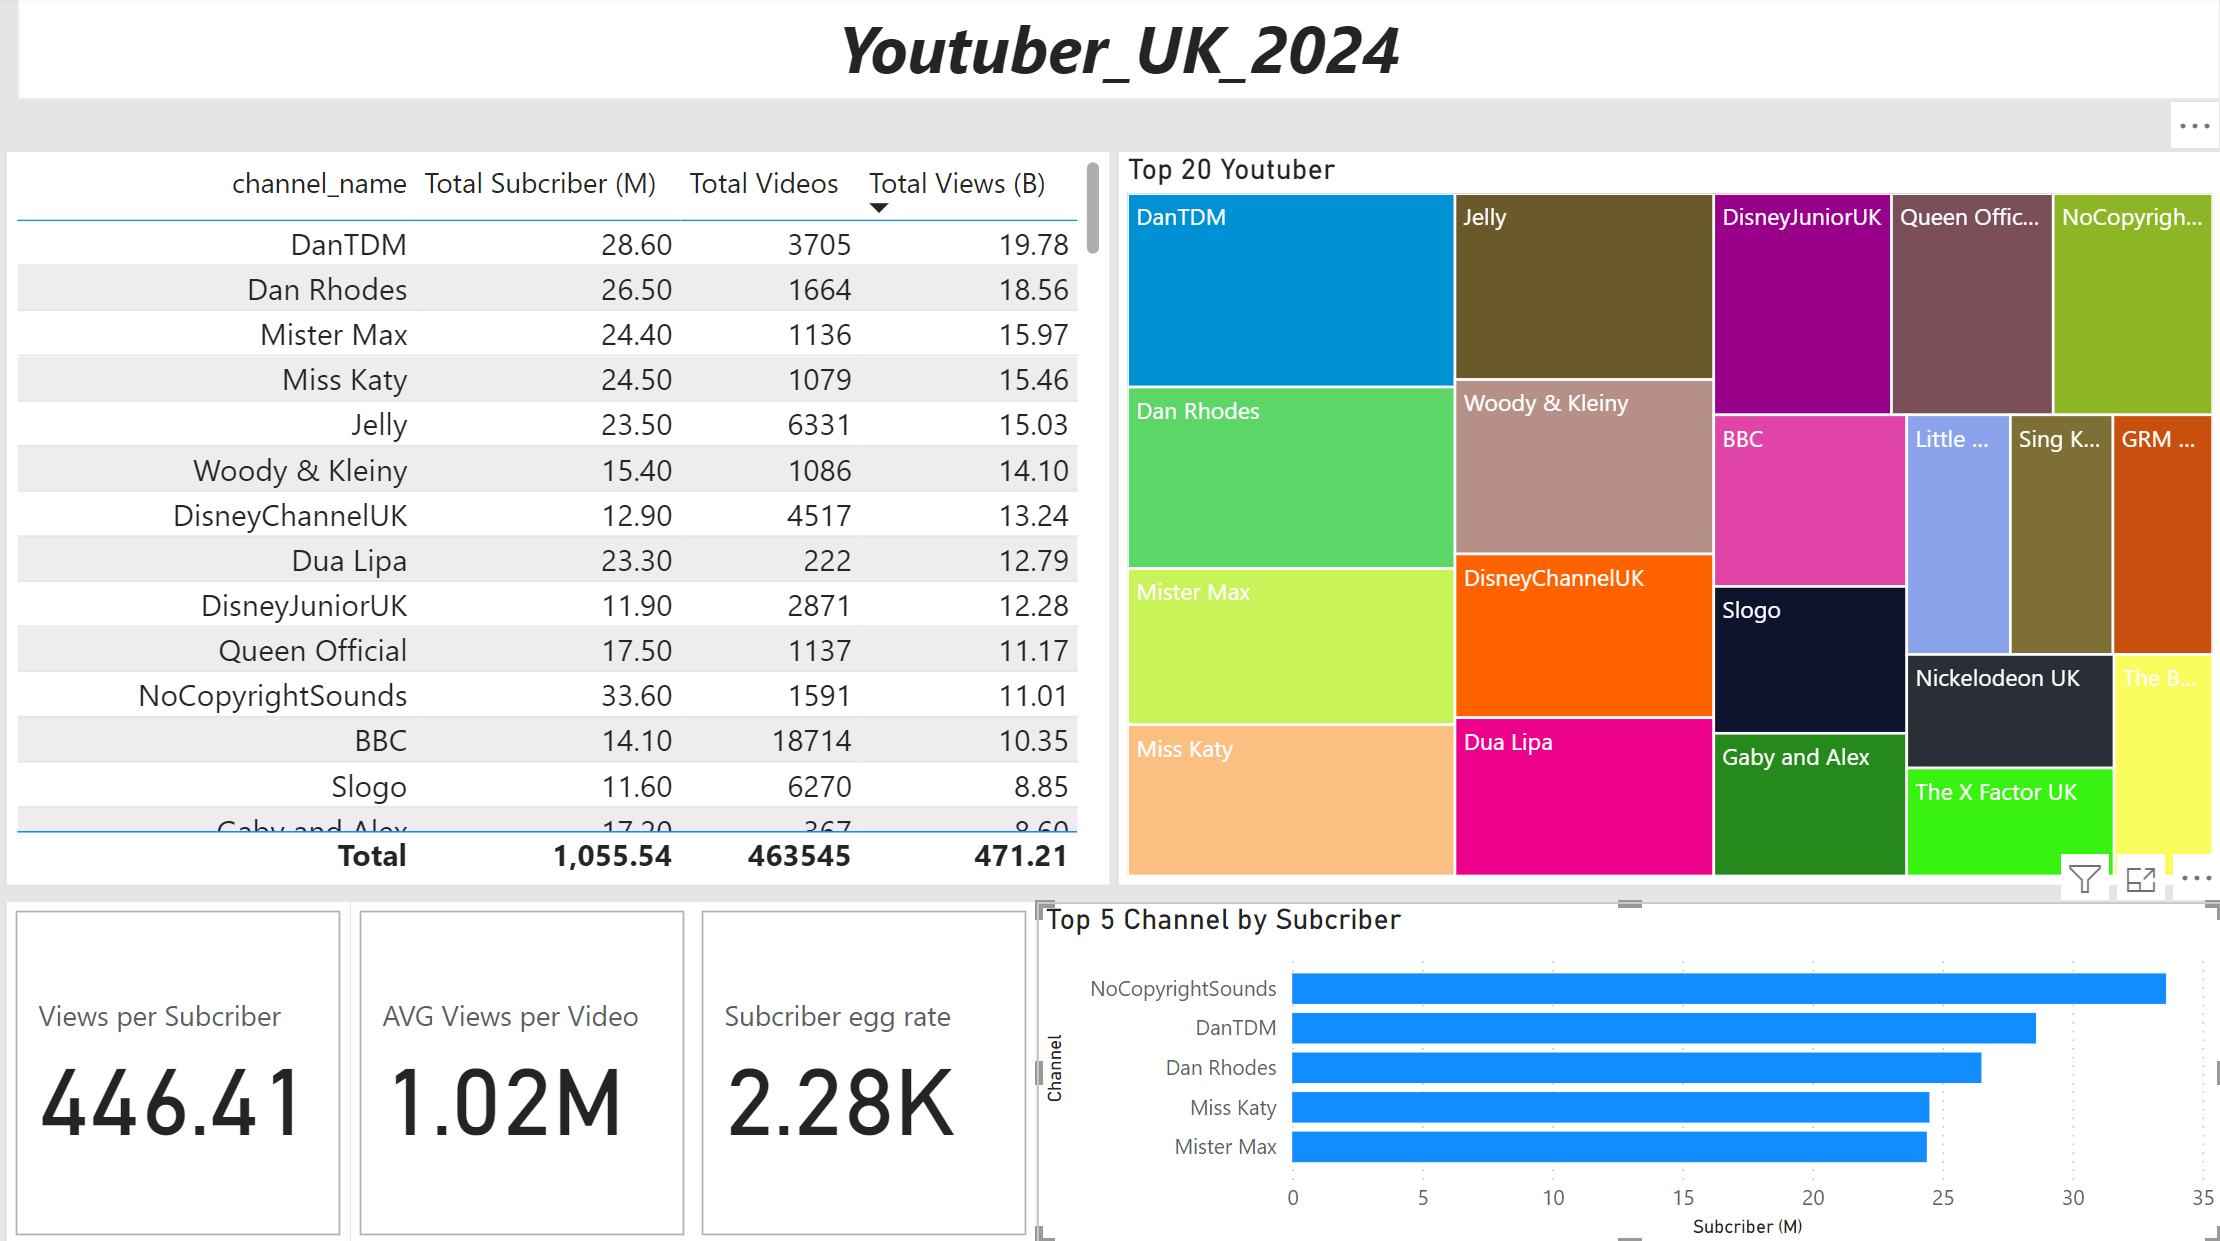

What the dashboard file says about the page in this screenshot:
{"tool":"powerbi","page":{"name":"Page 1","canvas":[1280,720],"ordinal":0},"visuals":[{"type":"textbox","box":[10.7,0,1269.3,61.2],"z":0},{"type":"tableEx","fields":{"Values":["view_uk_ytb_2024.channel_name","view_uk_ytb_2024.Total Subcriber (M)","view_uk_ytb_2024.Total Videos","view_uk_ytb_2024.Total Views (B)"]},"box":[5.1,90.5,634.9,422],"z":1},{"type":"treemap","title":"Top 20 Youtuber","fields":{"Group":["view_uk_ytb_2024.channel_name"],"Values":["view_uk_ytb_2024.Total Views (B)"]},"box":[645.1,90.5,634.9,422],"z":2},{"type":"cardVisual","fields":{"Data":["view_uk_ytb_2024.Views per Subcriber"]},"box":[5.1,522.7,197.6,197.6],"z":3},{"type":"cardVisual","fields":{"Data":["view_uk_ytb_2024.AVG Views per Video"]},"box":[202.7,522.7,197.6,197.6],"z":4},{"type":"cardVisual","fields":{"Data":["view_uk_ytb_2024.Subcriber egg rate"]},"box":[400.3,522.7,197.6,197.6],"z":5},{"type":"clusteredBarChart","title":"Top 5 Channel by Subcriber","fields":{"Category":["view_uk_ytb_2024.channel_name"],"Y":["view_uk_ytb_2024.Total Subcriber (M)"]},"box":[597.9,522.7,683.3,197.6],"z":6}]}

Visuals, with their boxes in screenshot pixels (x1, y1, x2, y2), scaled from the page's 1280x720 canvas onto the 2220x1241 screenshot:
textbox: x1=19, y1=0, x2=2219, y2=105
tableEx - view_uk_ytb_2024.channel_name x view_uk_ytb_2024.Total Subcriber (M): x1=9, y1=156, x2=1110, y2=883
"Top 20 Youtuber" treemap: x1=1119, y1=156, x2=2219, y2=883
cardVisual - view_uk_ytb_2024.Views per Subcriber: x1=9, y1=901, x2=352, y2=1240
cardVisual - view_uk_ytb_2024.AVG Views per Video: x1=352, y1=901, x2=694, y2=1240
cardVisual - view_uk_ytb_2024.Subcriber egg rate: x1=694, y1=901, x2=1037, y2=1240
"Top 5 Channel by Subcriber" clusteredBarChart: x1=1037, y1=901, x2=2219, y2=1240
